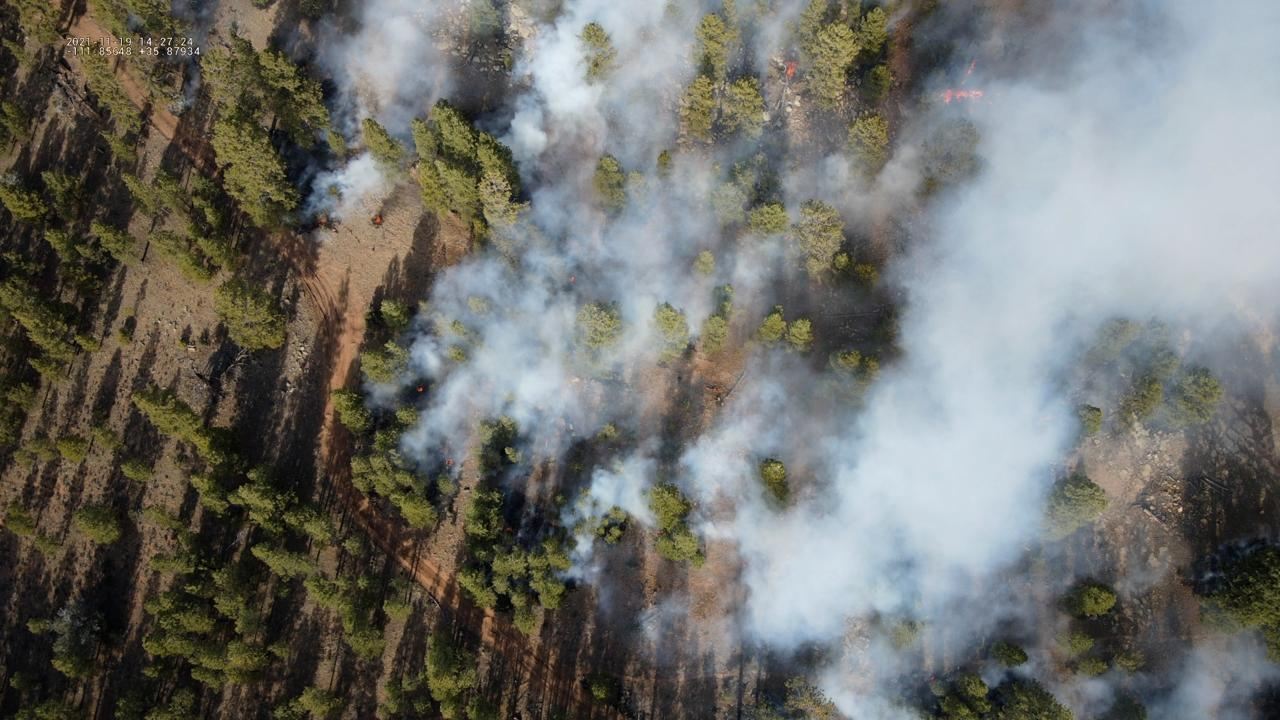fire: (939, 88, 985, 104), (783, 60, 799, 78), (965, 60, 978, 77), (316, 216, 330, 225), (373, 216, 383, 226), (446, 456, 454, 466), (569, 275, 576, 284), (416, 385, 424, 392)
smoke: (280, 0, 1280, 720), (164, 0, 219, 115), (125, 14, 144, 34)
